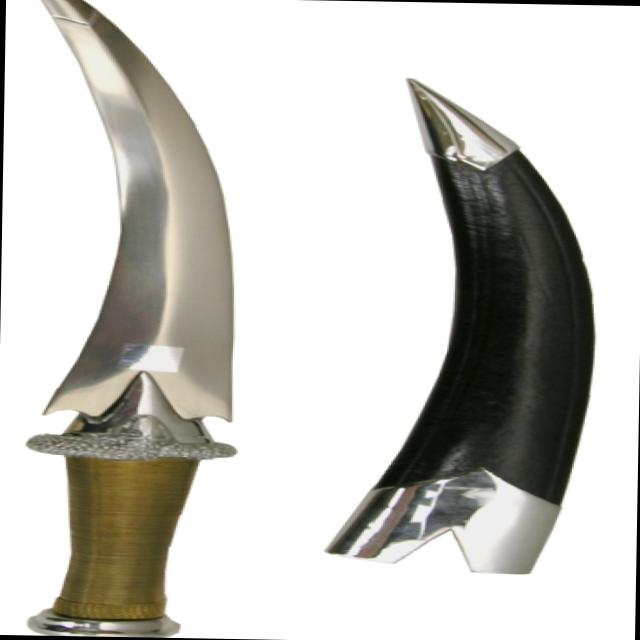Gun: (0, 0, 238, 638)
